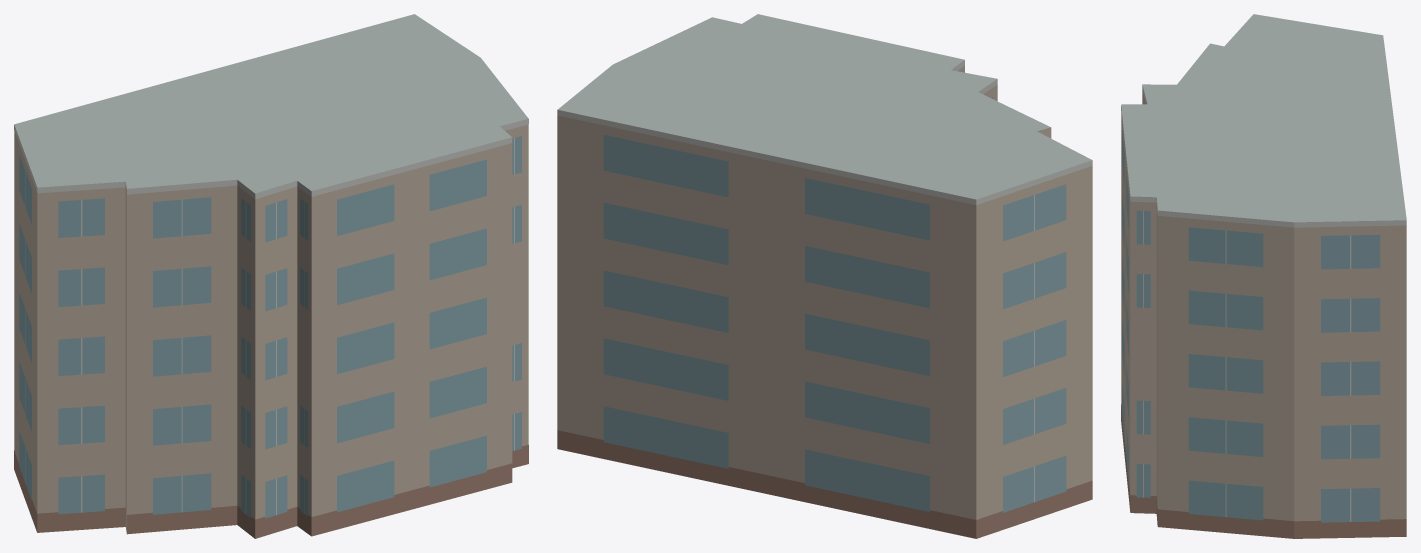
The model's file is survey-upis-32688832.glb.
3 views of the same model, side by side, from view 1: azimuth 30°, elevation 25°; view 2: azimuth 150°, elevation 25°; view 3: azimuth 270°, elevation 25° (orthographic). The views are drawn at different scales.
Visible parts, largest first — view 1: survey-upis-32688832.tmp; view 2: survey-upis-32688832.tmp; view 3: survey-upis-32688832.tmp.
Boxes of the visible parts, <box> form: survey-upis-32688832.tmp: <box>14,14,528,538</box>; survey-upis-32688832.tmp: <box>557,14,1092,538</box>; survey-upis-32688832.tmp: <box>1121,14,1406,538</box>.
Size of the model in its own units: 20.76 by 14.7 by 12.03.
